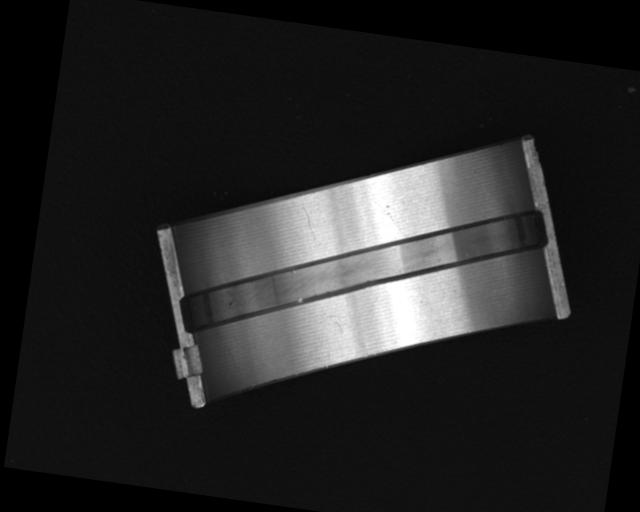gap: (176, 163, 552, 379)
nick: (296, 204, 320, 240)
